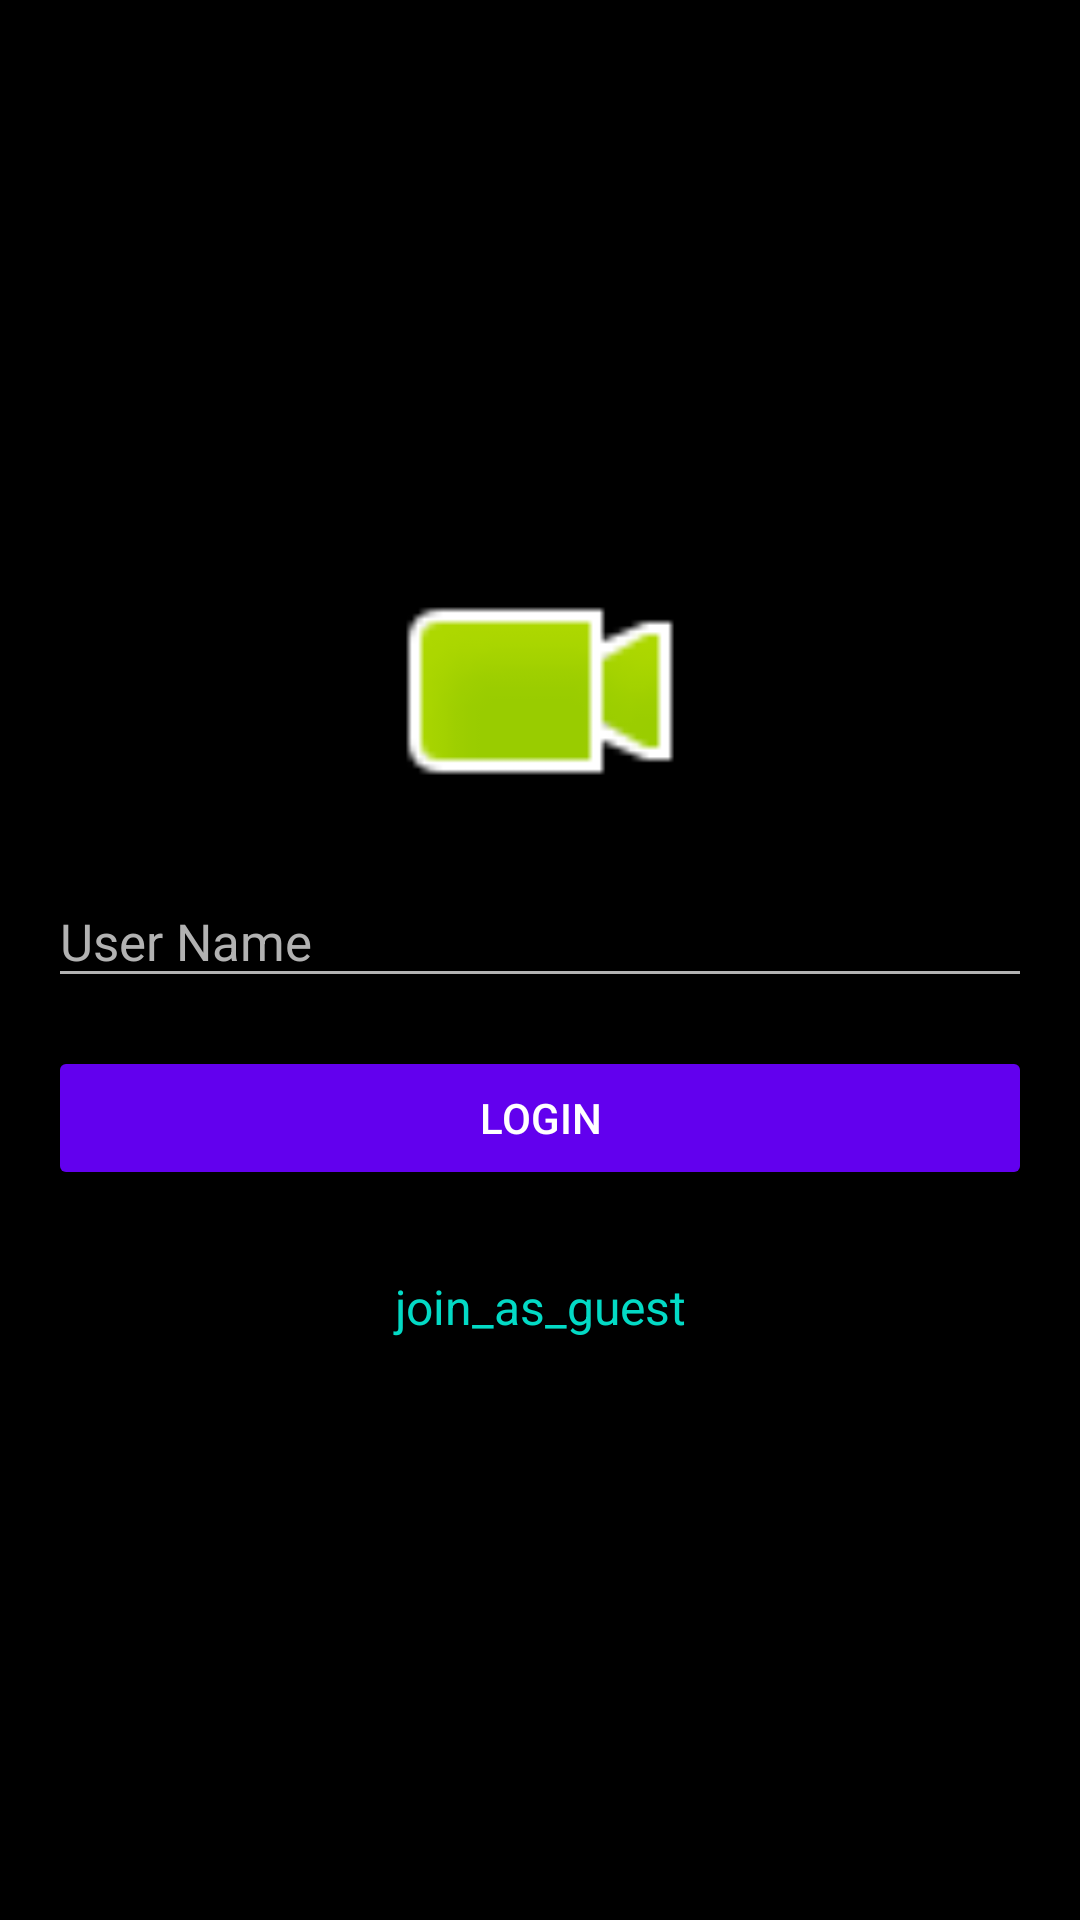

Icons on this 1080w x 1920h Android screen, each with the point to tap as (x=x, y=y):
presence video online: (x=540, y=691)
